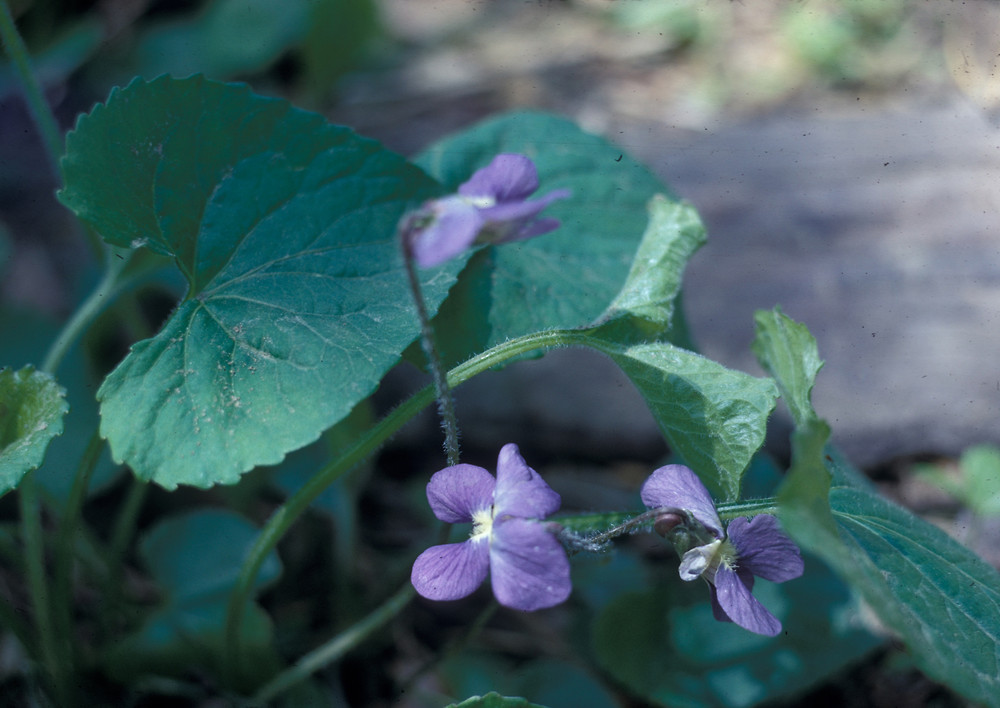violet: (389, 404, 593, 608), (622, 459, 826, 650), (406, 154, 584, 266)
